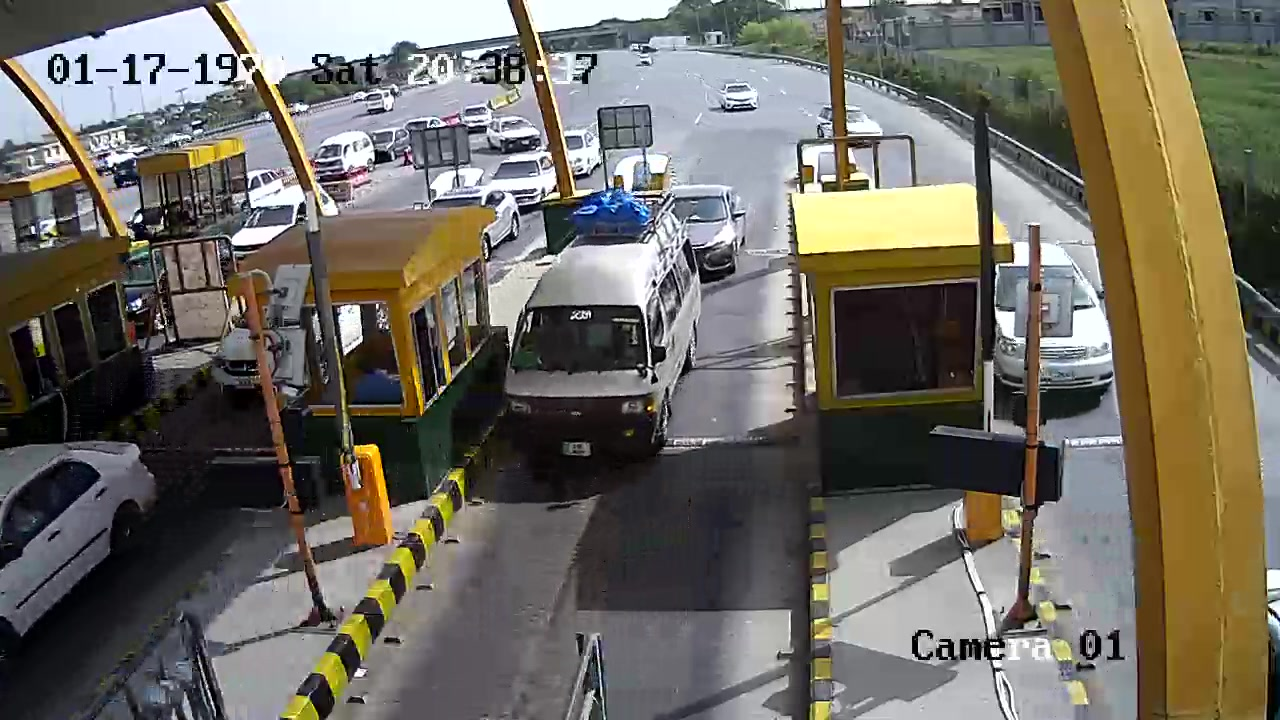F3: (496, 192, 710, 483)
